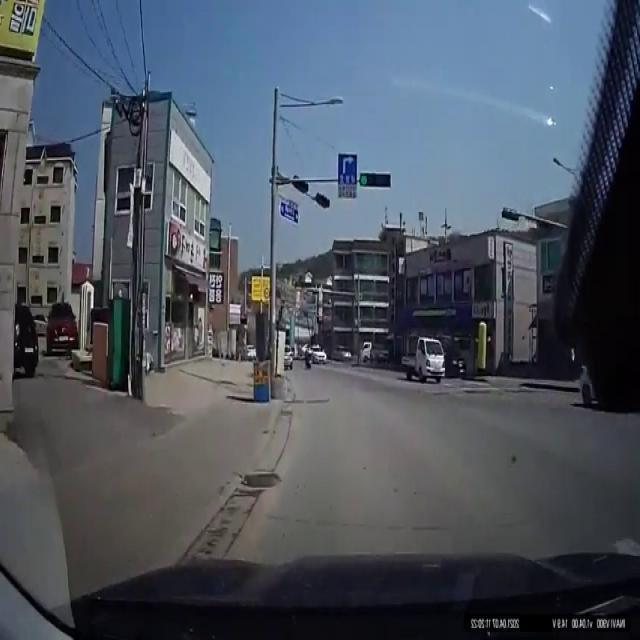pothole: (239, 469, 282, 491)
